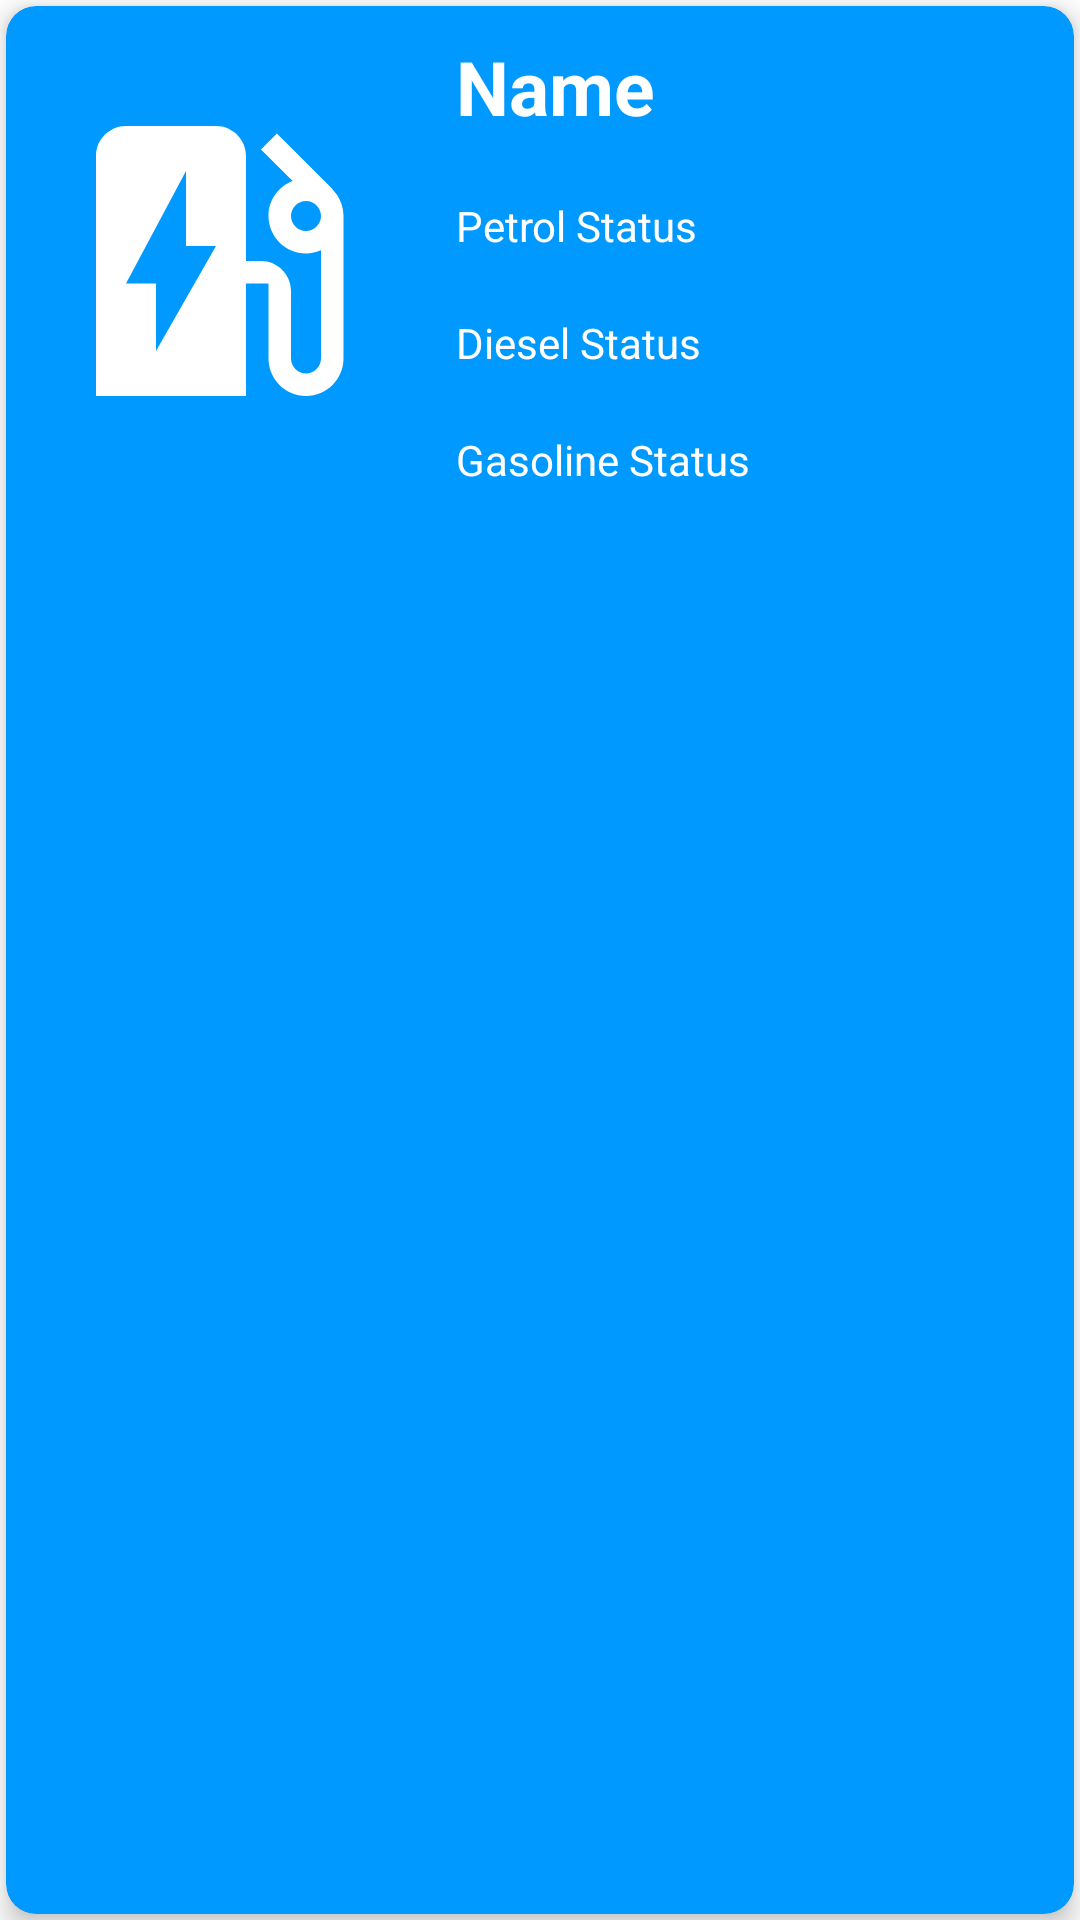

Locate icon controls on the screen. Image size 1080w x 1920h, boxes as [x1, y1, x2, y2].
ev station: [96, 126, 344, 396]
